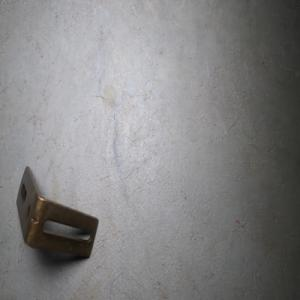MetalPart: (15, 164, 99, 259)
